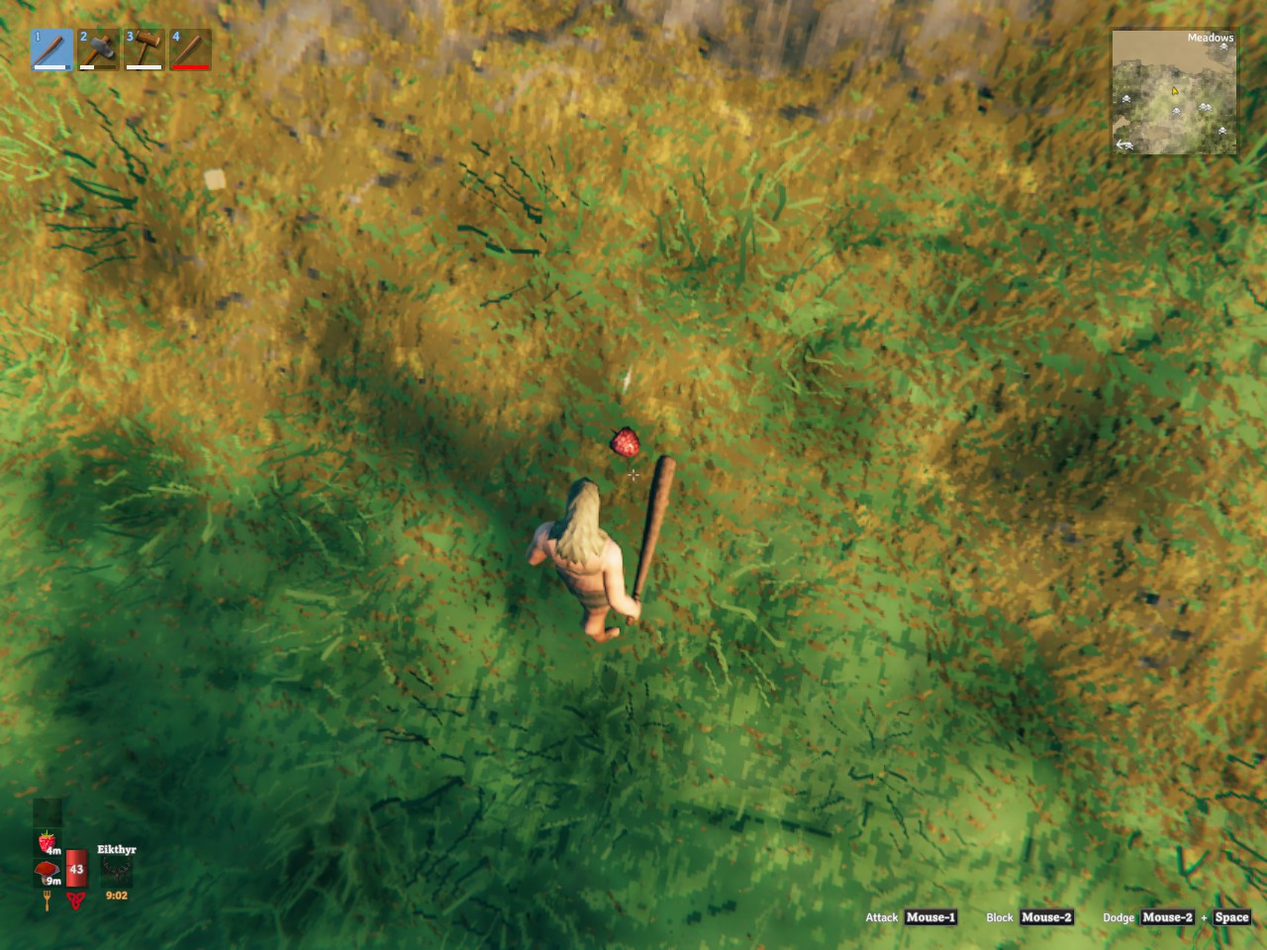Club: (632, 456, 675, 599)
Food Indicator: (36, 829, 63, 891)
Health Bar: (63, 845, 90, 891)
Hotbar: (25, 21, 398, 78)
Raspberries: (610, 427, 639, 457)
